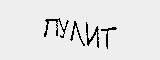И: (86, 23, 100, 48)
Л: (71, 20, 81, 46)
П: (44, 17, 59, 37)
Т: (100, 27, 116, 50)
У: (59, 18, 72, 39)
